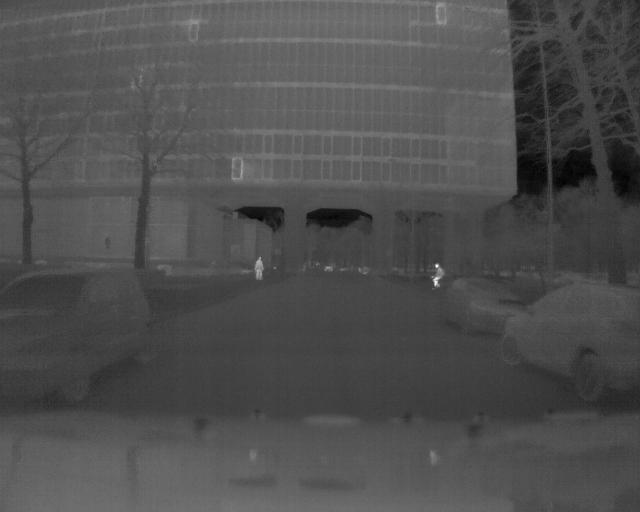car: (2, 269, 160, 403), (497, 285, 639, 403), (447, 276, 521, 335)
person: (432, 261, 445, 294), (255, 254, 267, 284)
